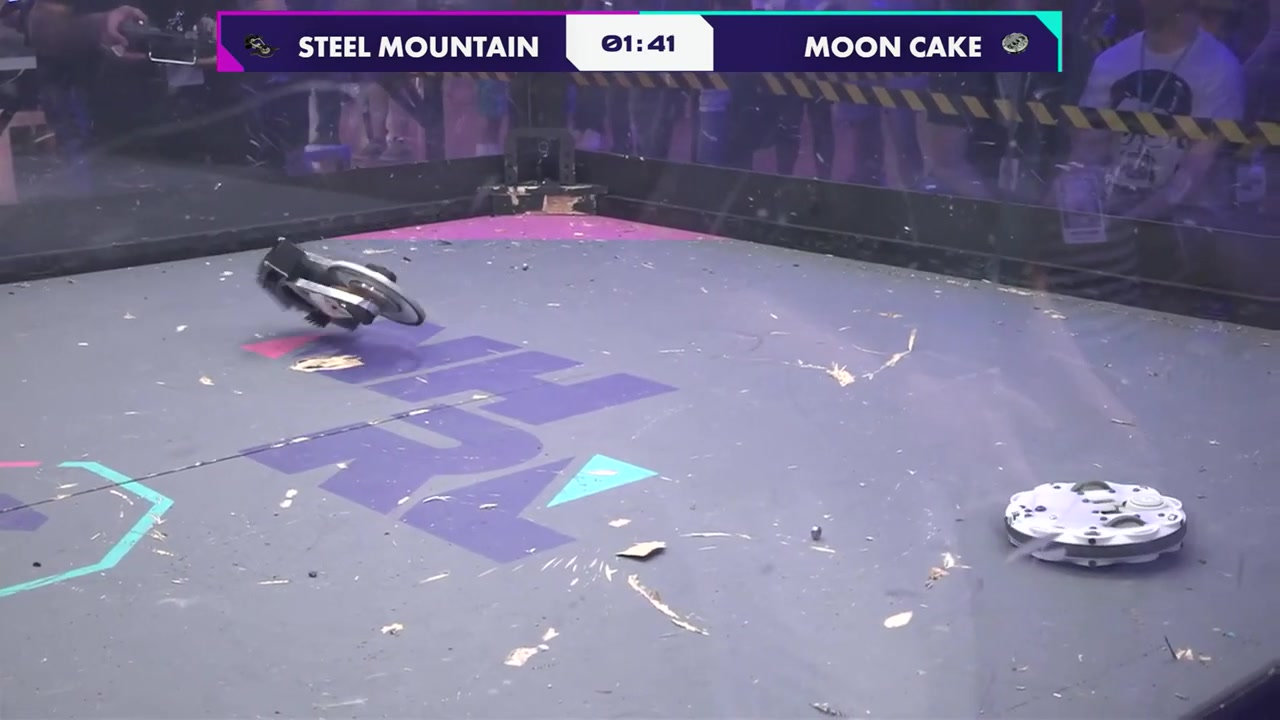combatbot: (1002, 478, 1188, 572), (256, 235, 428, 332)
debris: (618, 538, 666, 561)
